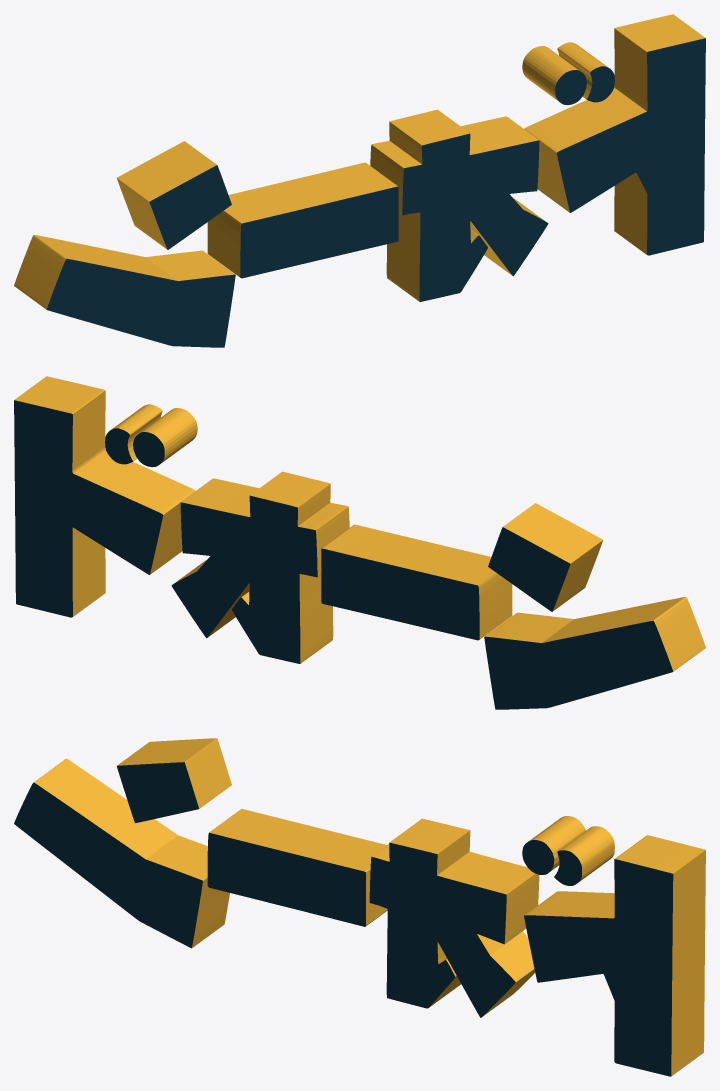
Rendered from Title_2.obj.
The picture shows the model from 3 angles, top to bottom: view 1: azimuth 30°, elevation 25°; view 2: azimuth 150°, elevation 25°; view 3: azimuth 330°, elevation 25°; orthographic projection.
Visible parts, largest first — view 1: トレース; view 2: トレース; view 3: トレース.
Part boxes in pixels (x1=…): トレース: x1=14, y1=14, x2=705, y2=347; トレース: x1=14, y1=376, x2=705, y2=709; トレース: x1=14, y1=738, x2=705, y2=1076.
Bounding box in the file's own units: 3.16 × 0.9338 × 0.2718.
Materials: 1 (1 with a texture image).
